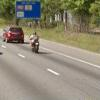Motorcycle: (26, 28, 51, 57)
